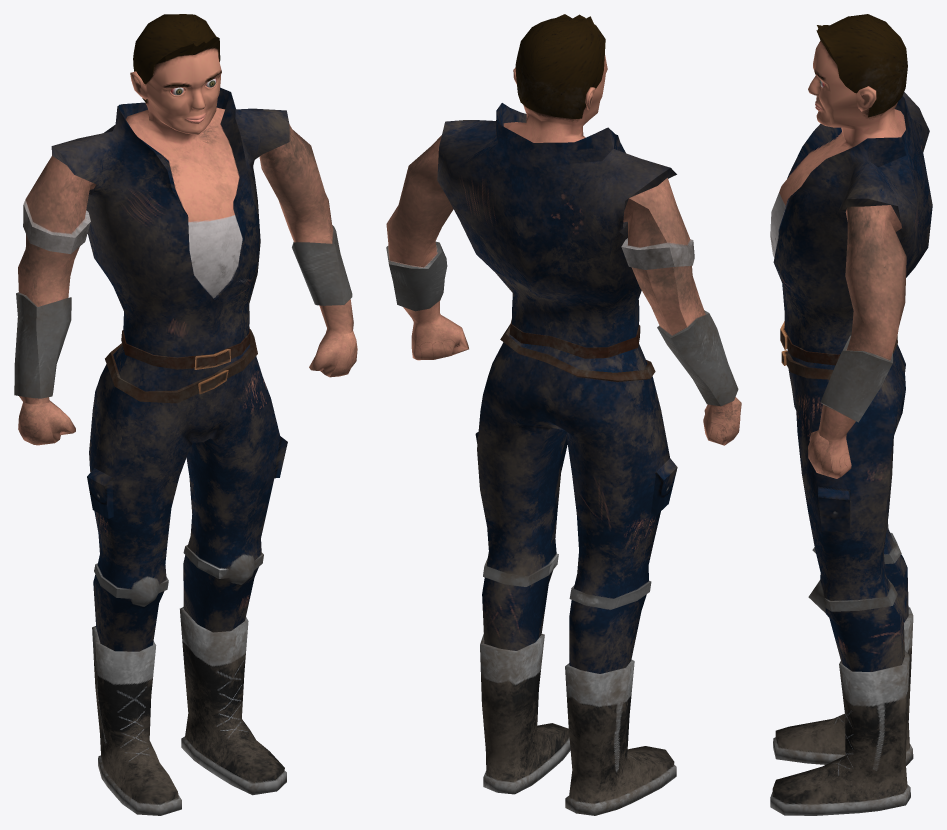
Rendered from Anim_coger_objeto_jugador.0015.obj.
The picture shows the model from 3 angles, left to right: view 1: azimuth 30°, elevation 25°; view 2: azimuth 150°, elevation 25°; view 3: azimuth 270°, elevation 25°; orthographic projection.
Visible parts, largest first — view 1: polySurface1; view 2: polySurface1; view 3: polySurface1.
Boxes of the visible parts, bbox=[...] form: polySurface1: bbox=[14, 14, 357, 815]; polySurface1: bbox=[386, 14, 741, 815]; polySurface1: bbox=[770, 14, 932, 815].
Size of the model in its own units: 4.45 by 9.64 by 1.86.
